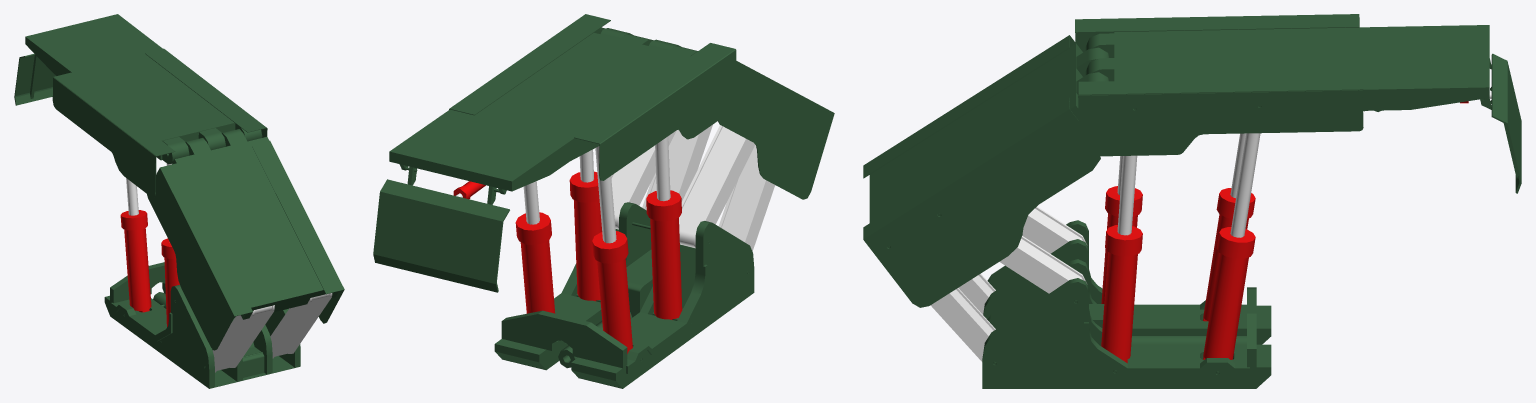
The model's file is yeyazhijia.FBX.
3 renders of one model, left to right at view 1: azimuth 30°, elevation 25°; view 2: azimuth 150°, elevation 25°; view 3: azimuth 270°, elevation 25°, orthographic. The views are drawn at different scales.
Visible parts, largest first — view 1: 12, 14, 1, 32, 31, 17, 6, 7, 27, 18, 20; view 2: 14, 1, 27, 31, 32, 8, 18, 17, 21, 22, 6, 7 (+6 smaller); view 3: 14, 12, 1, 31, 22, 21, 32, 27, 9, 7, 8, 23 (+4 smaller).
Part boxes in pixels (box(x1,y1,x2,y2)): 12: box(172, 129, 344, 323); 14: box(25, 14, 267, 163); 1: box(104, 262, 300, 388); 32: box(147, 163, 252, 350); 31: box(52, 72, 175, 197); 17: box(120, 210, 151, 312); 6: box(212, 305, 274, 372); 7: box(270, 293, 332, 358); 27: box(14, 53, 56, 105); 18: box(161, 238, 179, 326); 20: box(126, 178, 138, 215); 14: box(389, 14, 697, 194); 1: box(494, 202, 754, 388); 27: box(373, 166, 509, 292); 31: box(574, 43, 736, 180); 32: box(718, 61, 834, 199); 8: box(679, 125, 755, 248); 18: box(646, 190, 682, 319); 17: box(592, 231, 632, 353); 21: box(569, 171, 602, 301); 22: box(515, 212, 555, 313); 6: box(718, 145, 775, 251); 7: box(642, 124, 712, 210); 14: box(1078, 25, 1489, 156); 12: box(863, 43, 1109, 307); 1: box(982, 220, 1271, 388); 31: box(1075, 14, 1359, 52); 22: box(1203, 227, 1255, 359); 21: box(1101, 225, 1142, 363); 32: box(863, 35, 1075, 178); 27: box(1480, 53, 1521, 193); 9: box(999, 236, 1087, 293); 7: box(930, 288, 995, 361); 8: box(1022, 206, 1087, 253); 23: box(1230, 133, 1260, 237).
Size of the model in its own units: 372 by 687 by 1358.
